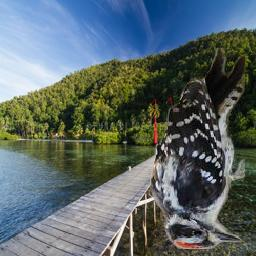Woodpecker: (147, 49, 246, 250)
